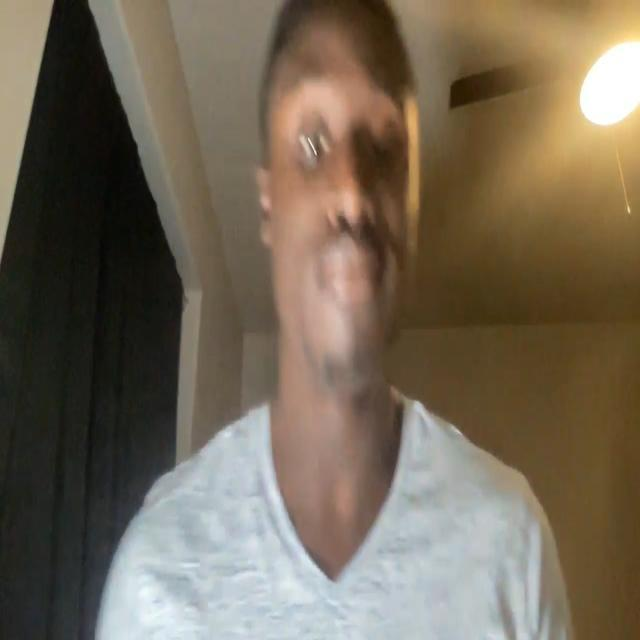Face: (256, 0, 422, 391)
